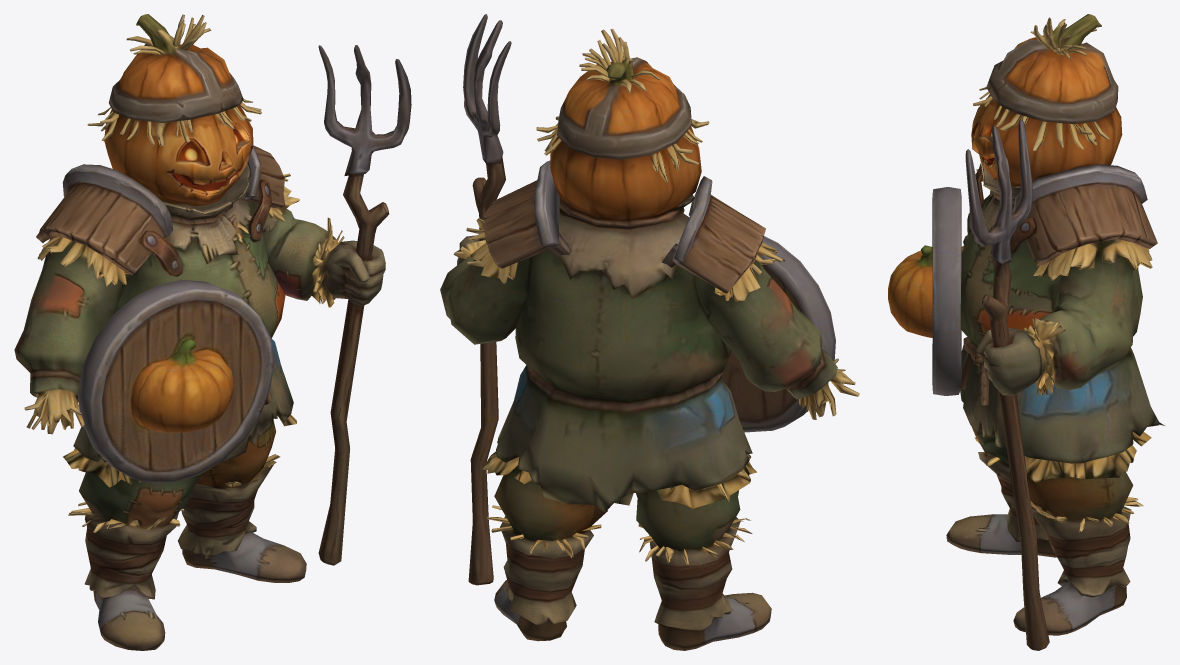
File: scarecrow_knight.glb
3 renders of one model, left to right at view 1: azimuth 30°, elevation 25°; view 2: azimuth 150°, elevation 25°; view 3: azimuth 270°, elevation 25°, orthographic. The views are drawn at different scales.
Visible parts, largest first — view 1: geometry_0; view 2: geometry_0; view 3: geometry_0.
Part boxes in pixels (x1,y1,x2,y2): geometry_0: (14, 14, 411, 650); geometry_0: (440, 14, 859, 650); geometry_0: (888, 14, 1164, 650).
Bounding box in the file's own units: 0.666 × 0.9526 × 0.4253.
Materials: 1 (1 with a texture image).
